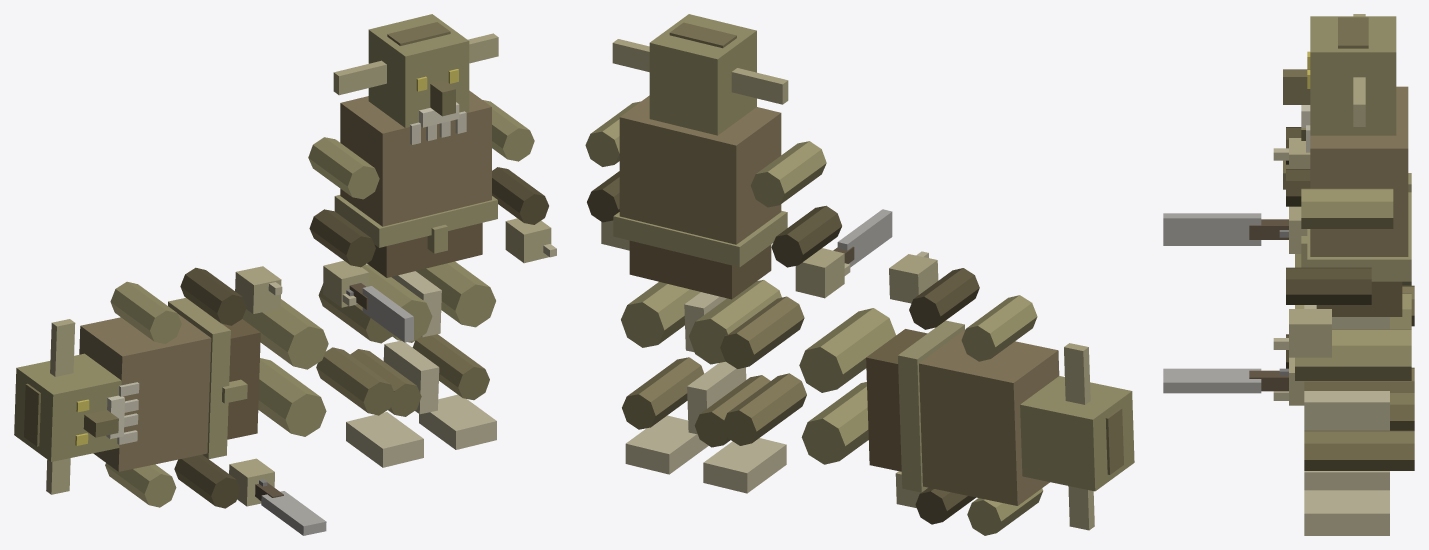
File: goblin-dagger.glb
3 renders of one model, left to right at view 1: azimuth 30°, elevation 25°; view 2: azimuth 150°, elevation 25°; view 3: azimuth 270°, elevation 25°, orthographic. The views are drawn at different scales.
Parts seen in each view (by area): view 1: Standing, Death; view 2: Standing, Death; view 3: Standing, Death.
Part boxes in pixels (left/top/right/bottom): Standing: left=308, top=14, right=556, bottom=467; Death: left=14, top=266, right=441, bottom=535; Standing: left=585, top=14, right=892, bottom=493; Death: left=684, top=251, right=1134, bottom=535; Standing: left=1163, top=14, right=1414, bottom=535; Death: left=1163, top=127, right=1414, bottom=430.
Size of the model in its own units: 2.16 by 1.7 by 0.82.
